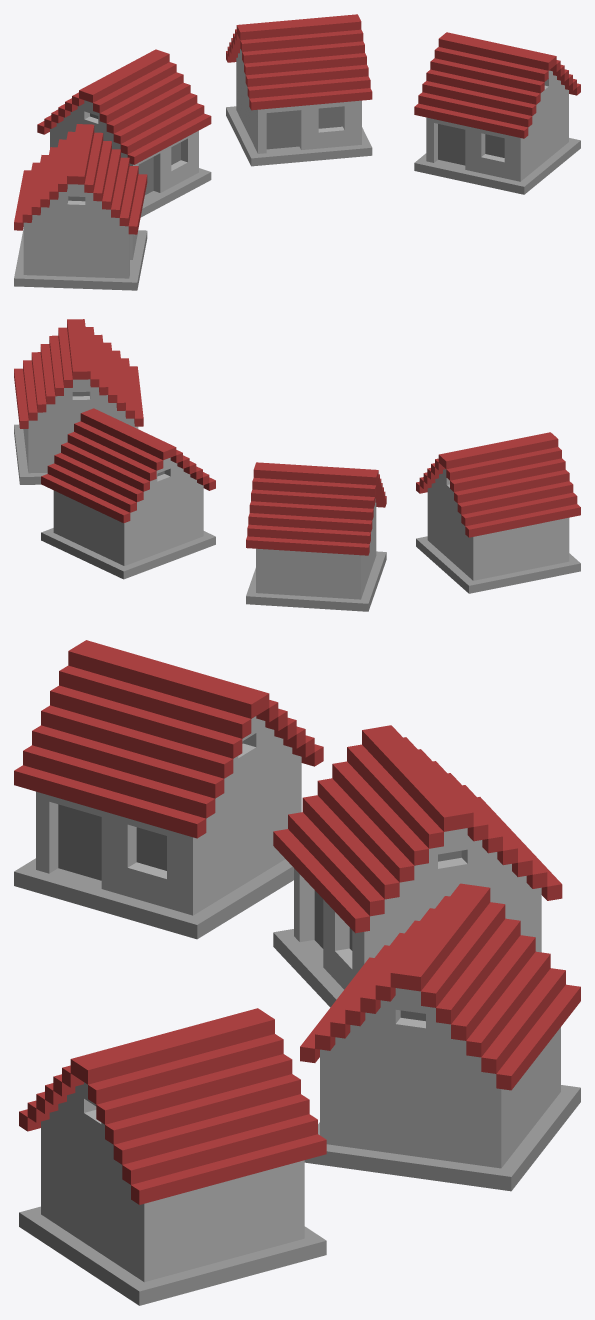
The model's file is neighborhood.glb.
The picture shows the model from 3 angles, top to bottom: view 1: azimuth 30°, elevation 25°; view 2: azimuth 150°, elevation 25°; view 3: azimuth 270°, elevation 25°; orthographic projection. The views are drawn at different scales.
Visible parts, largest first — view 1: 13.002, 13, 13.003, 13.001; view 2: 13, 13.003, 13.001, 13.002; view 3: 13.002, 13.003, 13, 13.001.
Boxes of the visible parts, left/top/right/bottom form: 13.002: left=414, top=32, right=580, bottom=194; 13: left=226, top=14, right=372, bottom=166; 13.003: left=14, top=124, right=147, bottom=290; 13.001: left=37, top=49, right=211, bottom=217; 13: left=41, top=408, right=215, bottom=579; 13.003: left=416, top=432, right=580, bottom=593; 13.001: left=246, top=462, right=386, bottom=611; 13.002: left=14, top=319, right=143, bottom=484; 13.002: left=19, top=1008, right=326, bottom=1305; 13.003: left=14, top=640, right=323, bottom=939; 13: left=300, top=883, right=580, bottom=1191; 13.001: left=273, top=725, right=562, bottom=1007.
Size of the model in its own units: 18.51 by 3.5 by 8.92.
